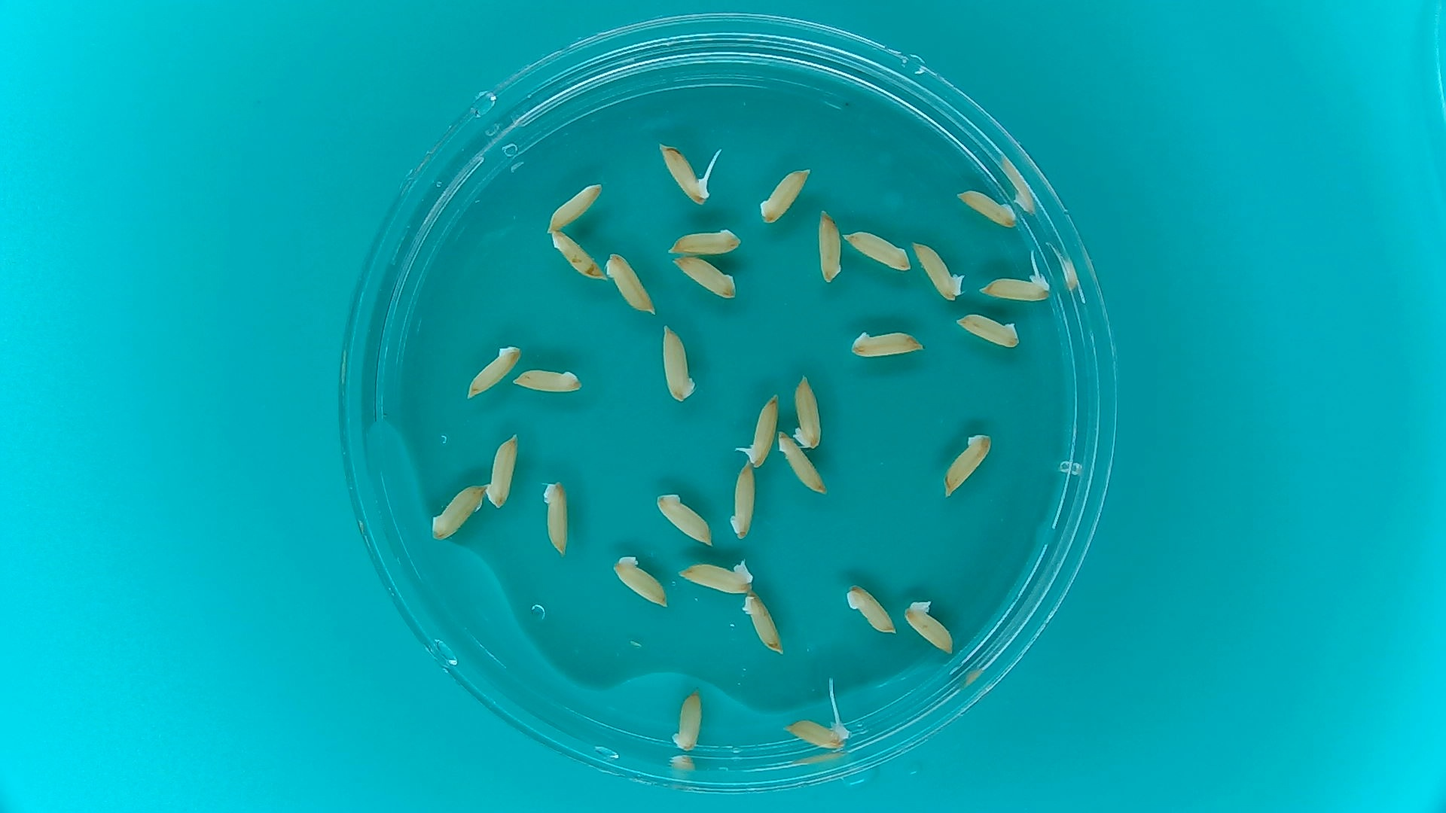no: (936, 425, 995, 501), (771, 427, 831, 498), (541, 176, 609, 236), (459, 339, 522, 403), (654, 488, 717, 551), (611, 551, 674, 614), (911, 237, 968, 306), (426, 481, 487, 544), (901, 592, 958, 659), (755, 165, 813, 230), (603, 248, 658, 316), (841, 578, 902, 639), (667, 251, 740, 300), (546, 227, 607, 284), (738, 589, 789, 657), (657, 322, 699, 404), (792, 362, 831, 450), (672, 555, 755, 596), (842, 227, 912, 273), (480, 430, 519, 511), (844, 325, 930, 361), (539, 471, 575, 556), (953, 186, 1022, 230), (726, 461, 761, 544), (951, 311, 1023, 350), (812, 204, 844, 289), (666, 687, 707, 752), (510, 365, 584, 394)
yes: (656, 145, 708, 209), (744, 397, 781, 470), (787, 717, 855, 754), (976, 270, 1052, 303)
